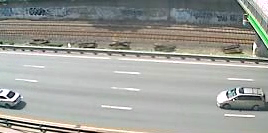car: (213, 84, 268, 115)
